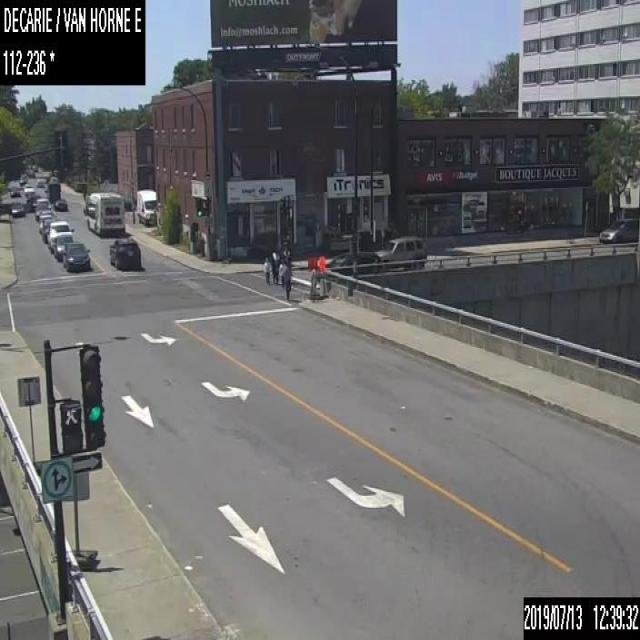bus: (85, 191, 125, 235)
construction: (57, 467, 99, 568), (16, 374, 48, 476), (316, 254, 326, 298), (306, 252, 315, 297)
pedestrian: (270, 245, 278, 282), (281, 265, 290, 297), (262, 255, 270, 284), (279, 259, 285, 286)
vehicle: (377, 234, 425, 268), (327, 250, 379, 276), (597, 215, 639, 242), (108, 237, 140, 269), (47, 220, 74, 253), (61, 242, 90, 272), (136, 188, 156, 225), (53, 233, 75, 260), (42, 218, 60, 242), (32, 198, 51, 220), (46, 175, 61, 202), (38, 214, 52, 233), (10, 200, 24, 216), (28, 193, 40, 210), (54, 197, 67, 210), (23, 183, 34, 194), (10, 184, 20, 196), (35, 177, 44, 187), (19, 173, 27, 184), (27, 169, 34, 177)
